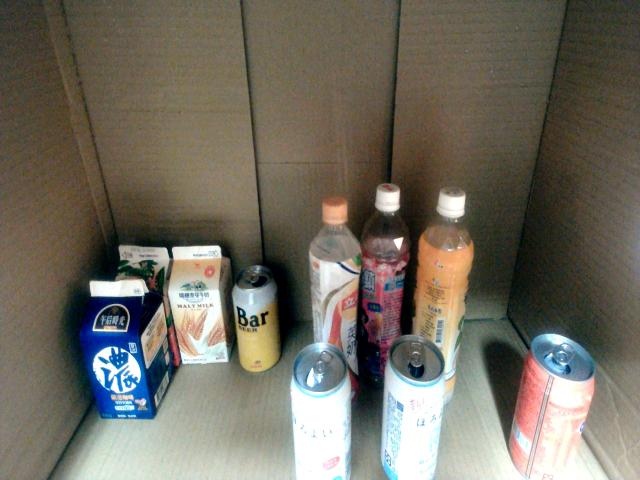Canned_drinks: (507, 330, 596, 480), (380, 334, 445, 480), (290, 341, 352, 480), (230, 264, 283, 375)
bottle: (408, 184, 474, 410), (357, 181, 411, 396), (308, 195, 360, 405)
